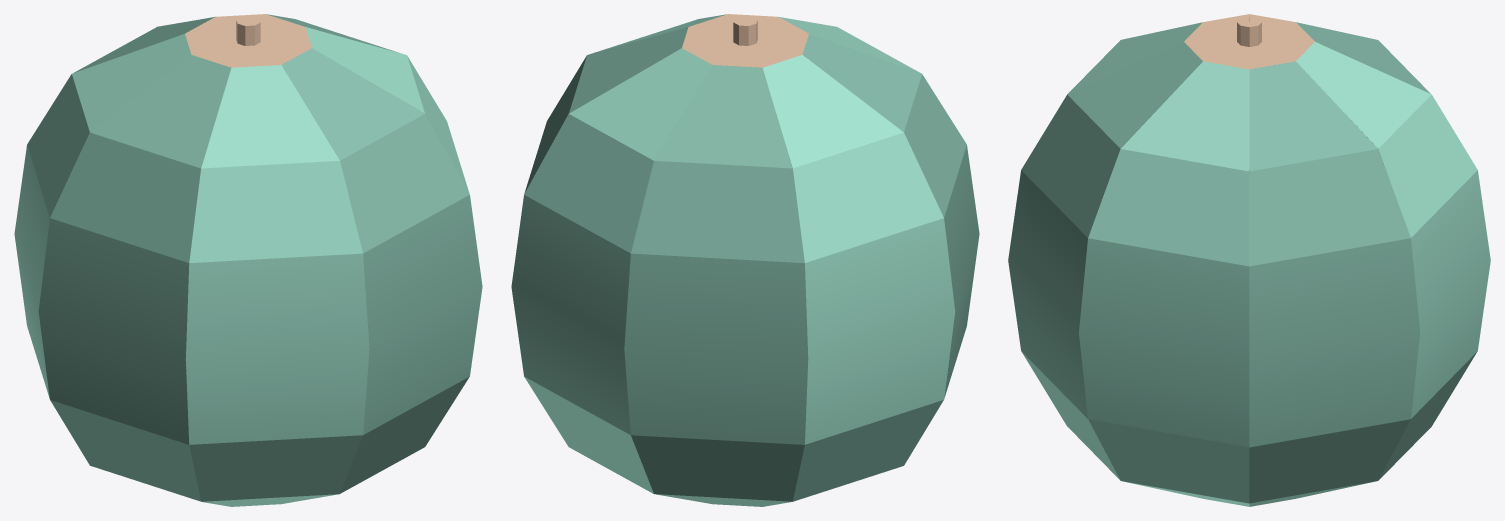
Rendered from watermelon.glb.
3 renders of one model, left to right at view 1: azimuth 30°, elevation 25°; view 2: azimuth 150°, elevation 25°; view 3: azimuth 270°, elevation 25°, orthographic.
Visible parts, largest first — view 1: slice (×7); view 2: slice (×7); view 3: slice (×6).
Boxes of the visible parts, bbox=[...] form: slice (×7): bbox=[14, 14, 482, 506]; slice (×7): bbox=[511, 14, 979, 506]; slice (×6): bbox=[1008, 18, 1490, 506].
Bounding box in the file's own units: 0.4554 × 0.4761 × 0.4554.
